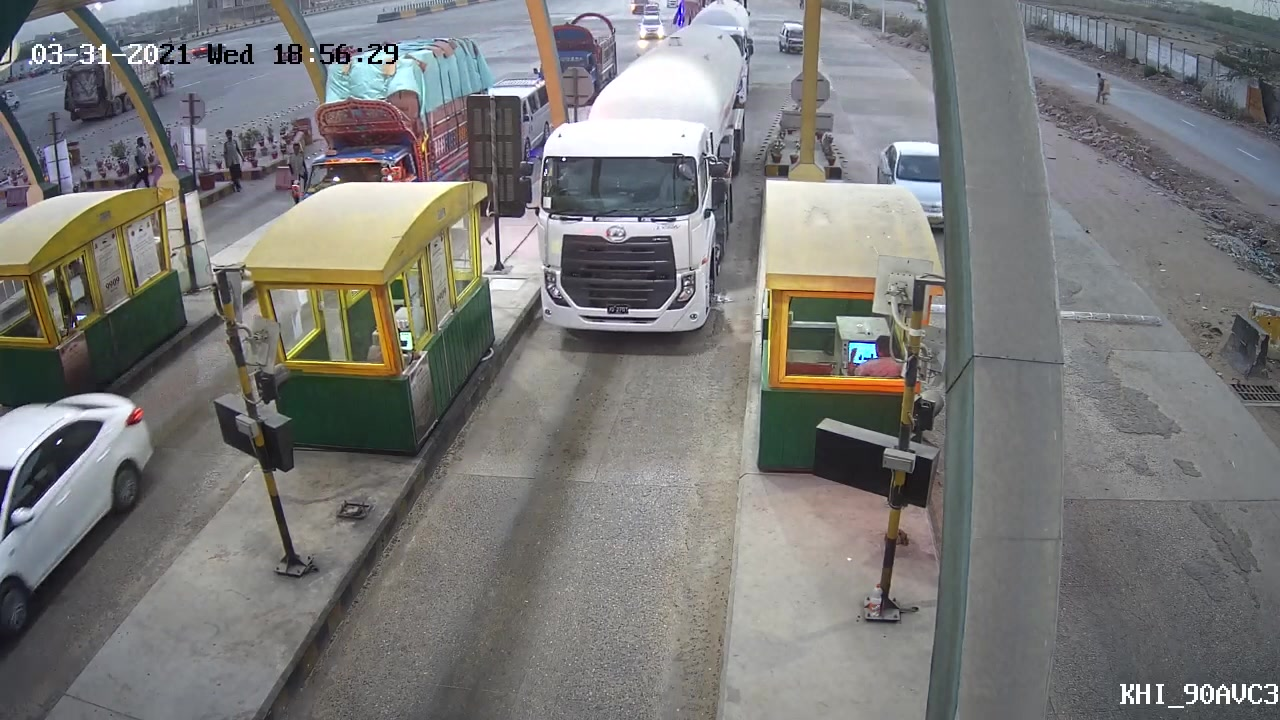F6: (516, 38, 744, 329)
